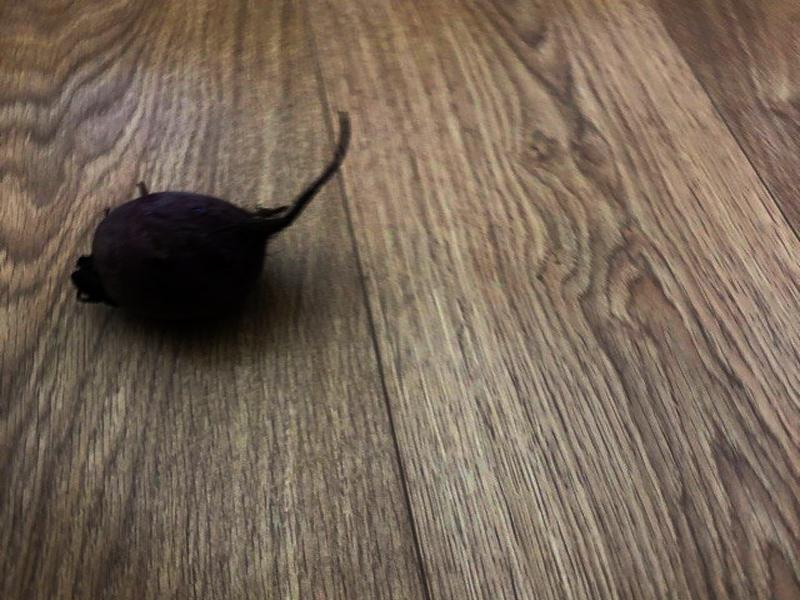Beet: (76, 112, 355, 321)
